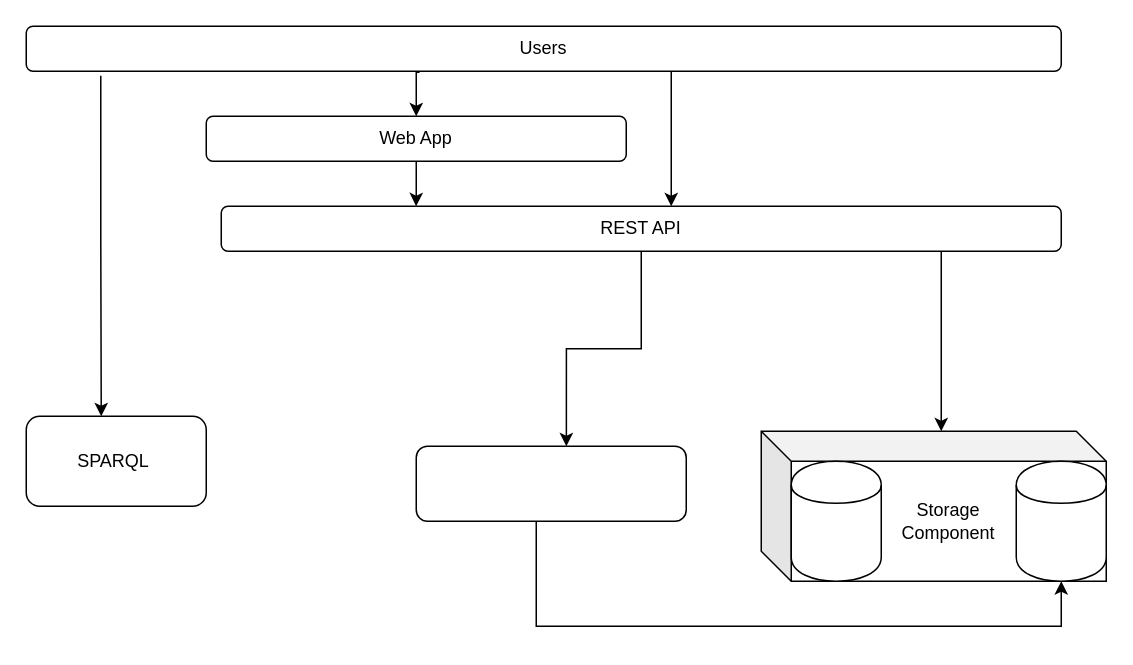
Image size: 1133x665. Some labels were removed from this diagram. Each missing label, with the centre of its shape:
Database: the point at 1060,520
Video Processing Unit: the point at 550,483
Video Storage: the point at 835,520
